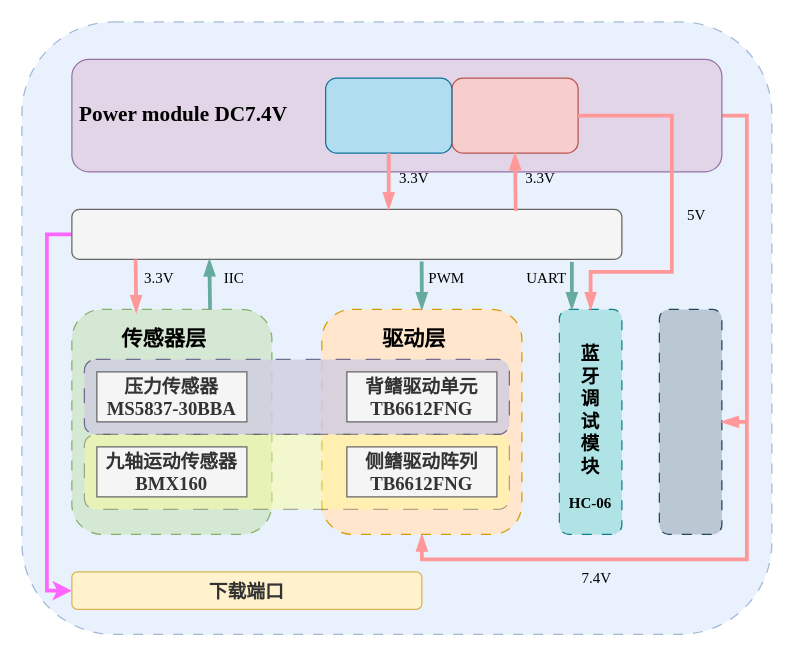
This 794x656 diagram has some shape labels left out. The shapes that lost their labels are listed below. From the top down, each one's centre as x and y in pixels, then its label:
point (388, 115): 稳压降压
point (514, 115): 稳压升压
point (346, 233): STM32F103C8T6 微控制器
point (690, 421): 摄像模块
